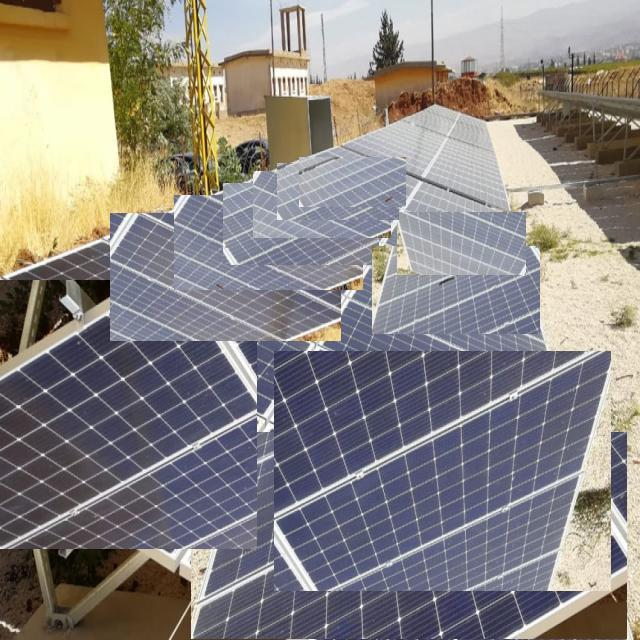Non Defective: (192, 433, 627, 639), (274, 352, 611, 591), (0, 280, 257, 549), (11, 241, 308, 414), (326, 303, 580, 468), (111, 214, 341, 341), (355, 270, 558, 389), (174, 196, 363, 290), (373, 246, 540, 334), (224, 183, 379, 265), (386, 227, 534, 302), (253, 171, 391, 238), (397, 212, 526, 275), (277, 164, 399, 220), (406, 201, 521, 254), (300, 158, 406, 207)
